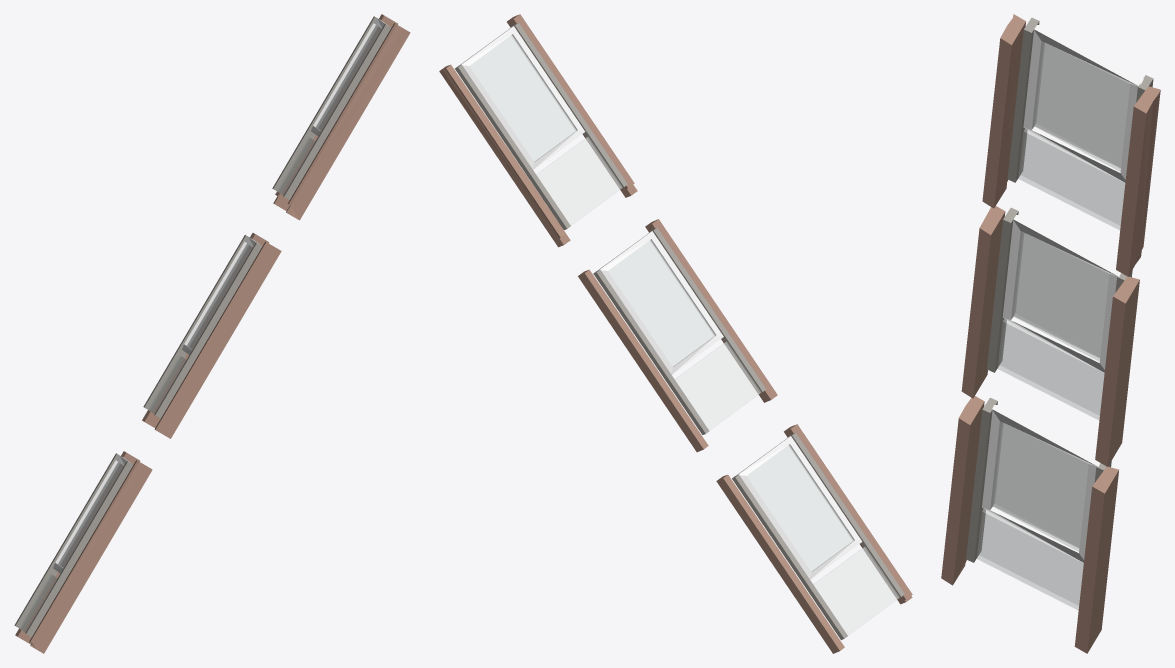
3 renders of one model, left to right at view 1: azimuth 30°, elevation 25°; view 2: azimuth 150°, elevation 25°; view 3: azimuth 270°, elevation 25°, orthographic. The views are drawn at different scales.
Visible parts, largest first — view 1: mesh; view 2: mesh; view 3: mesh.
Part boxes in pixels (x1,y1,x2,y2): mesh: (14,14,410,653); mesh: (439,14,912,653); mesh: (941,14,1160,653).
Bounding box in the file's own units: 5.81 × 7.23 × 1.57.
